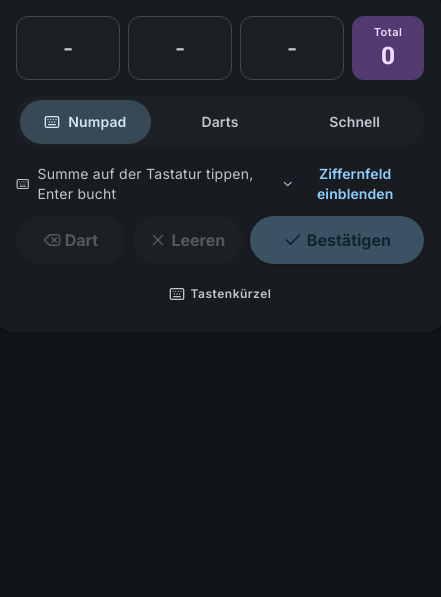
numpad on a keyboard-first desktop › unfolds on request and remembers it
Click the button "Ziffernfeld einblenden" at (346, 184), box [269, 164, 424, 204]
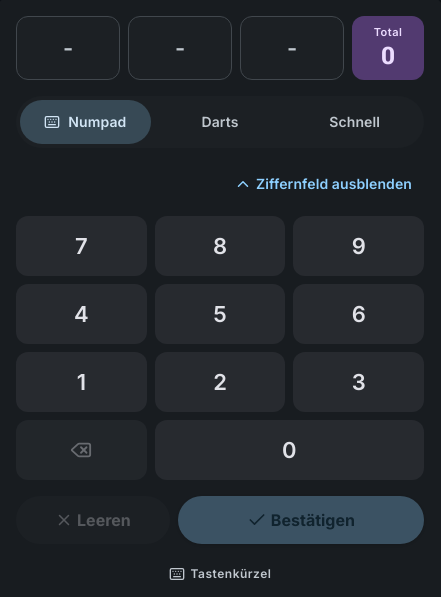
Expected: the button "7" is shown, [16, 216, 147, 276]
